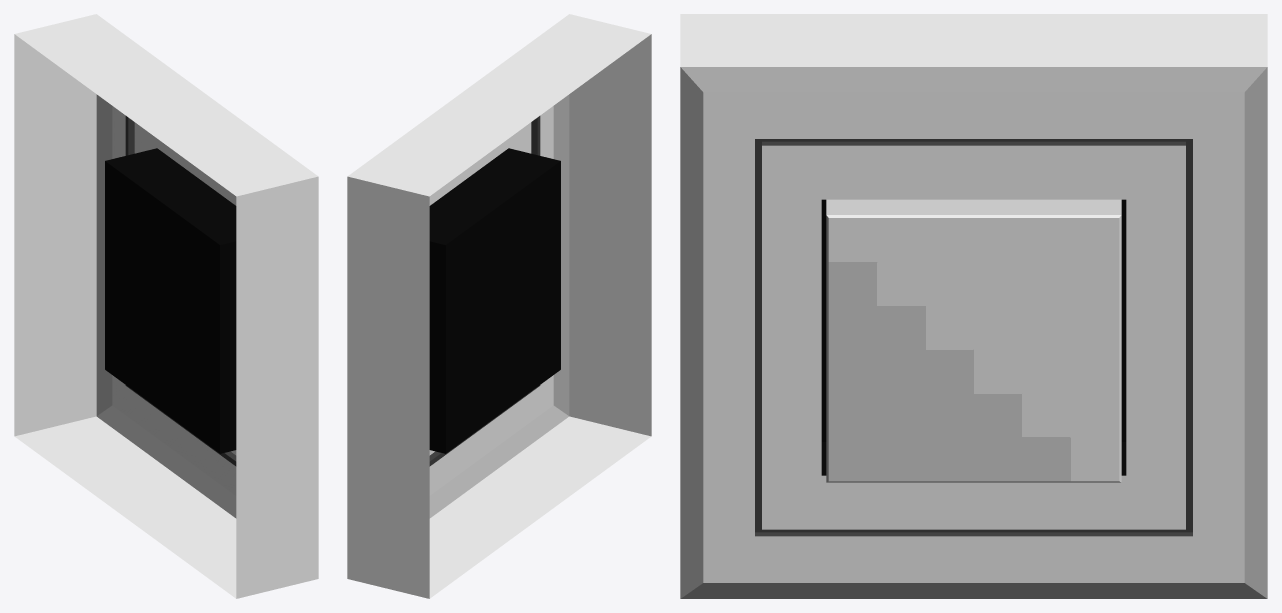
File: MediumVoltageSwitch.obj
The picture shows the model from 3 angles, left to right: view 1: azimuth 30°, elevation 25°; view 2: azimuth 150°, elevation 25°; view 3: azimuth 270°, elevation 25°; orthographic projection. The views are drawn at different scales.
Parts seen in each view (by area): view 1: Case_Cube.001; view 2: Case_Cube.001; view 3: Case_Cube.001, Switch_Cube.002.
Part boxes in pixels (<box>): Case_Cube.001: <box>14,14,318,598</box>; Case_Cube.001: <box>347,14,651,598</box>; Case_Cube.001: <box>680,14,1267,598</box>; Switch_Cube.002: <box>826,199,1121,482</box>.
Bounding box in the file's own units: 0.1855 × 0.66 × 0.66.
Materials: 2 (2 with a texture image).
